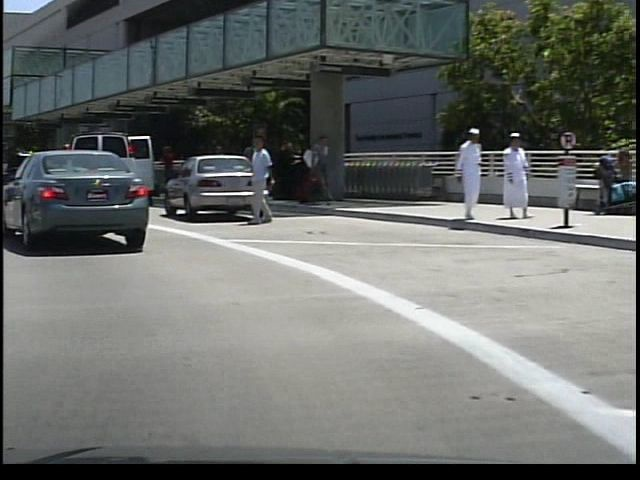person: (240, 130, 276, 230), (491, 129, 527, 221), (449, 125, 481, 222), (301, 131, 330, 208), (154, 141, 177, 205)
